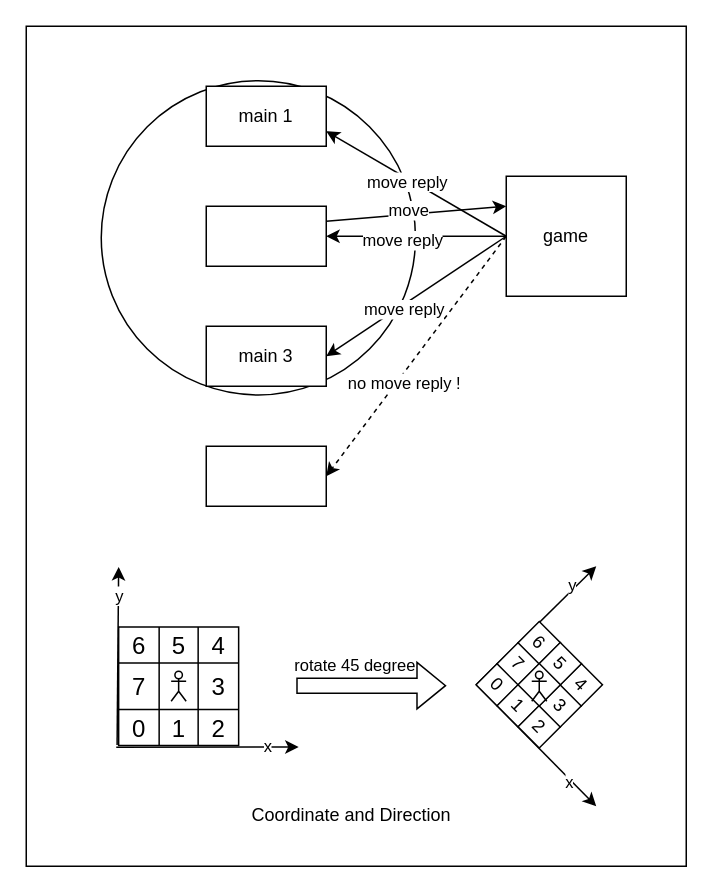
This 713x893 diagram has some shape labels left out. The centre of each missing label's shape, as x and y in pixels:
"main 2" belongs at (x=265, y=235).
"main 4" belongs at (x=265, y=475).
